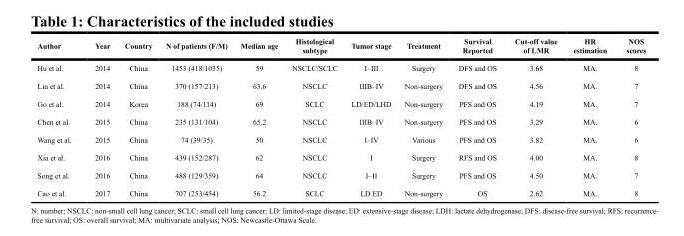table: (36, 36, 645, 196)
table column: (158, 36, 233, 196), (284, 36, 343, 196), (505, 36, 564, 196), (449, 36, 505, 196), (343, 36, 397, 196), (397, 36, 449, 196), (233, 36, 284, 196), (564, 36, 615, 196), (36, 36, 82, 196), (116, 36, 158, 196), (82, 36, 116, 196), (615, 36, 645, 196)
table column header: (36, 36, 645, 58)
table row: (36, 36, 645, 58), (36, 58, 645, 76), (36, 76, 645, 94), (36, 94, 645, 112), (36, 112, 645, 130), (36, 130, 645, 148), (36, 165, 645, 183), (36, 148, 645, 165), (36, 183, 645, 196)
